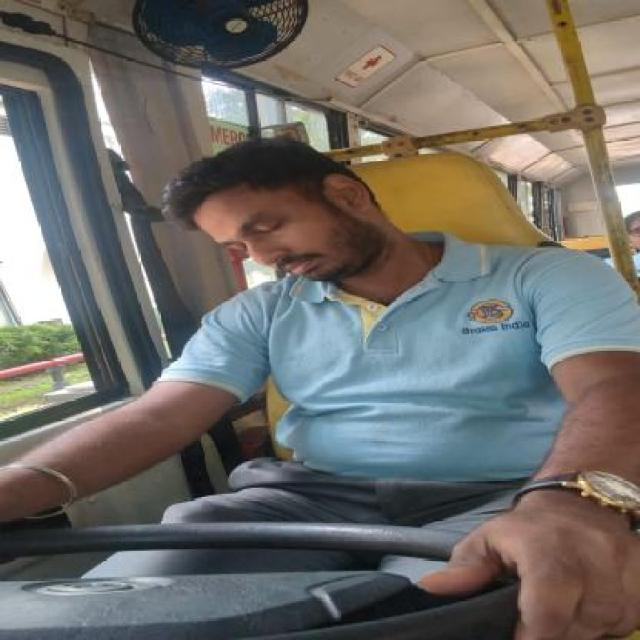Inattentive: (166, 133, 387, 285)
